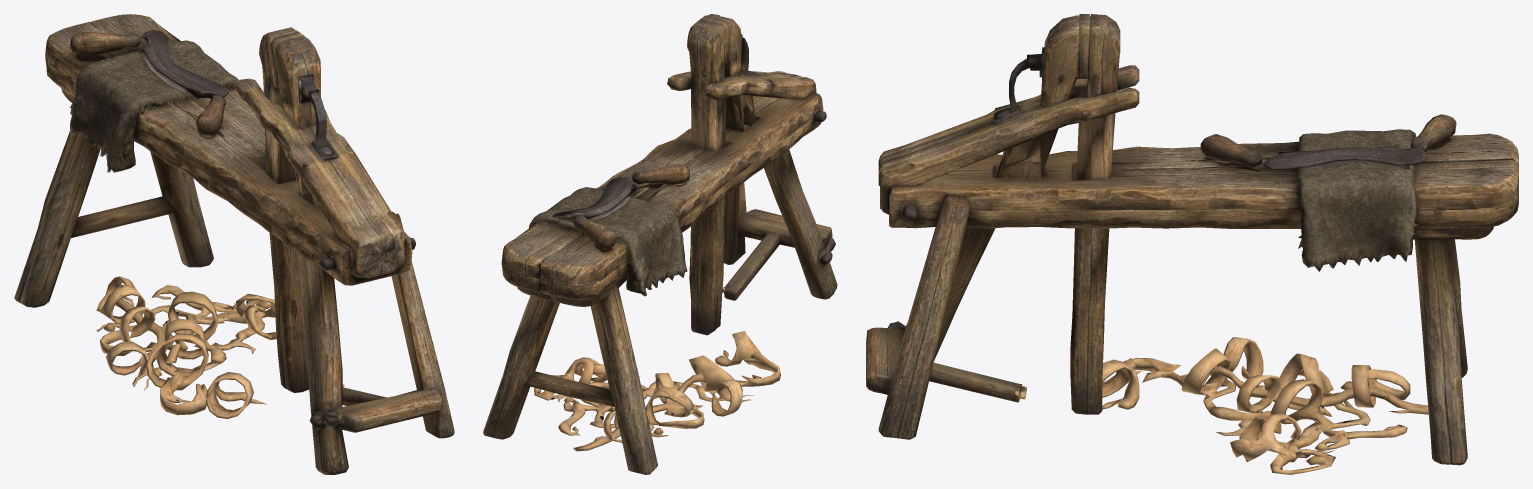
The model's file is kit_tw_shaving_horse.glb.
3 views of the same model, side by side, from view 1: azimuth 30°, elevation 25°; view 2: azimuth 150°, elevation 25°; view 3: azimuth 270°, elevation 25° (orthographic). The views are drawn at different scales.
Parts seen in each view (by area): view 1: kit_tw_shaving_horse; view 2: kit_tw_shaving_horse; view 3: kit_tw_shaving_horse.
Boxes of the visible parts, box(x1,y1,x2,y2) form: kit_tw_shaving_horse: box(14, 14, 454, 474); kit_tw_shaving_horse: box(483, 14, 837, 474); kit_tw_shaving_horse: box(866, 14, 1518, 474).
Bounding box in the file's own units: 0.5689 × 0.95 × 1.39.
Materials: 1 (1 with a texture image).
